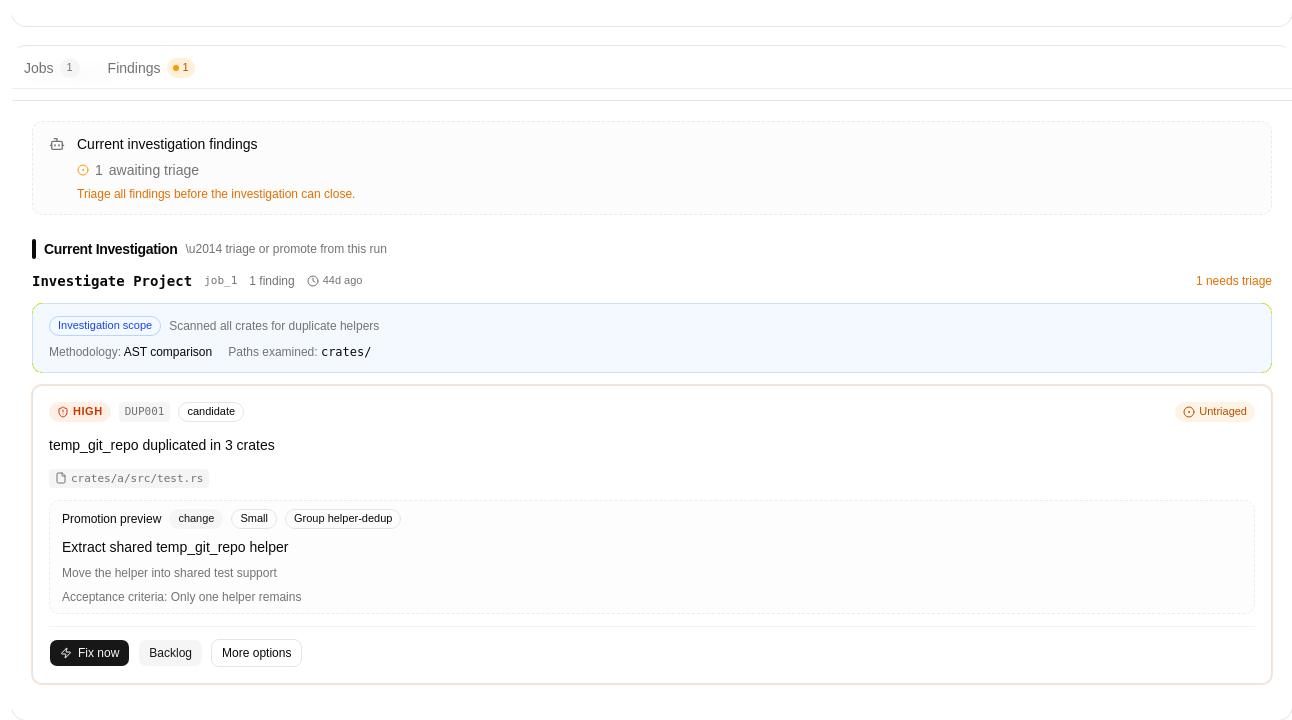
ItemDetailPage › promotes and launches investigation findings from the primary fix action
The image size is (1292, 720).
(page scrolled)
Check: the text "temp_git_repo duplicated in 3 crates" is shown, box x1=49 y1=437 x2=275 y2=453
Click the button "Fix now".
click(90, 653)  # box x1=49 y1=639 x2=130 y2=667
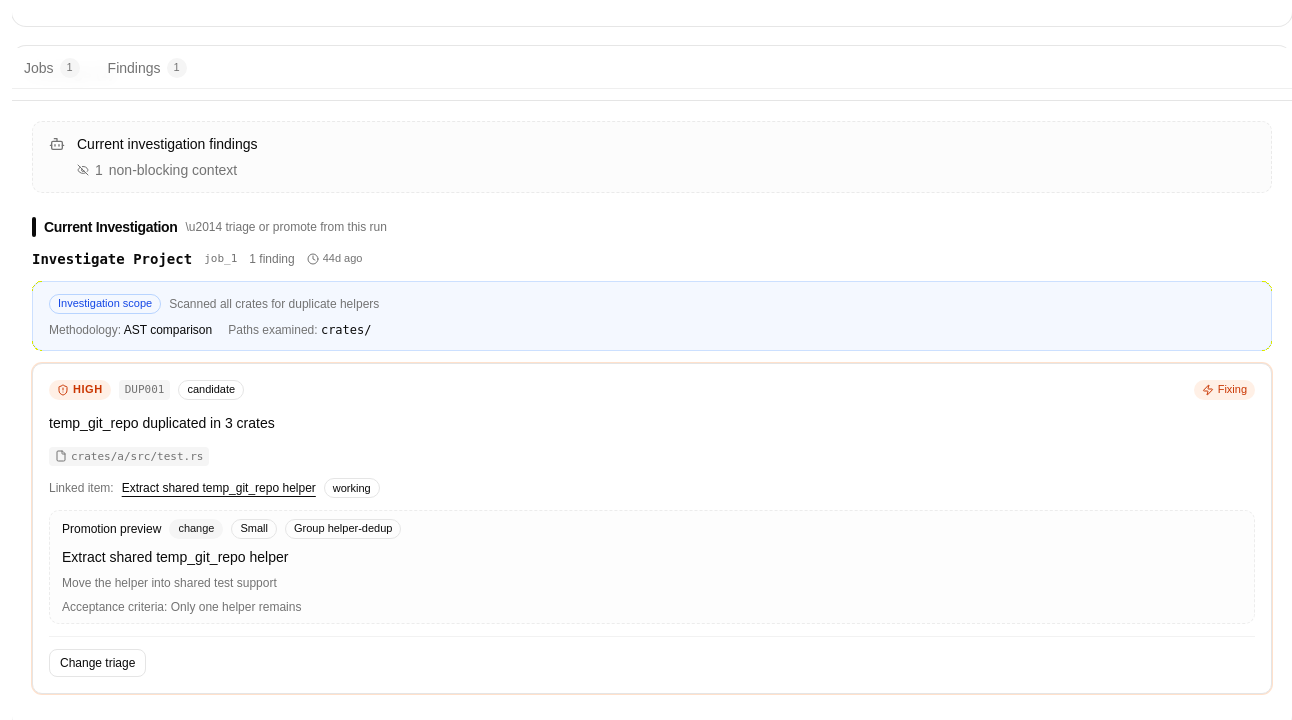
Check: the text "Fixing" is shown, box x1=1194 y1=380 x2=1255 y2=400
